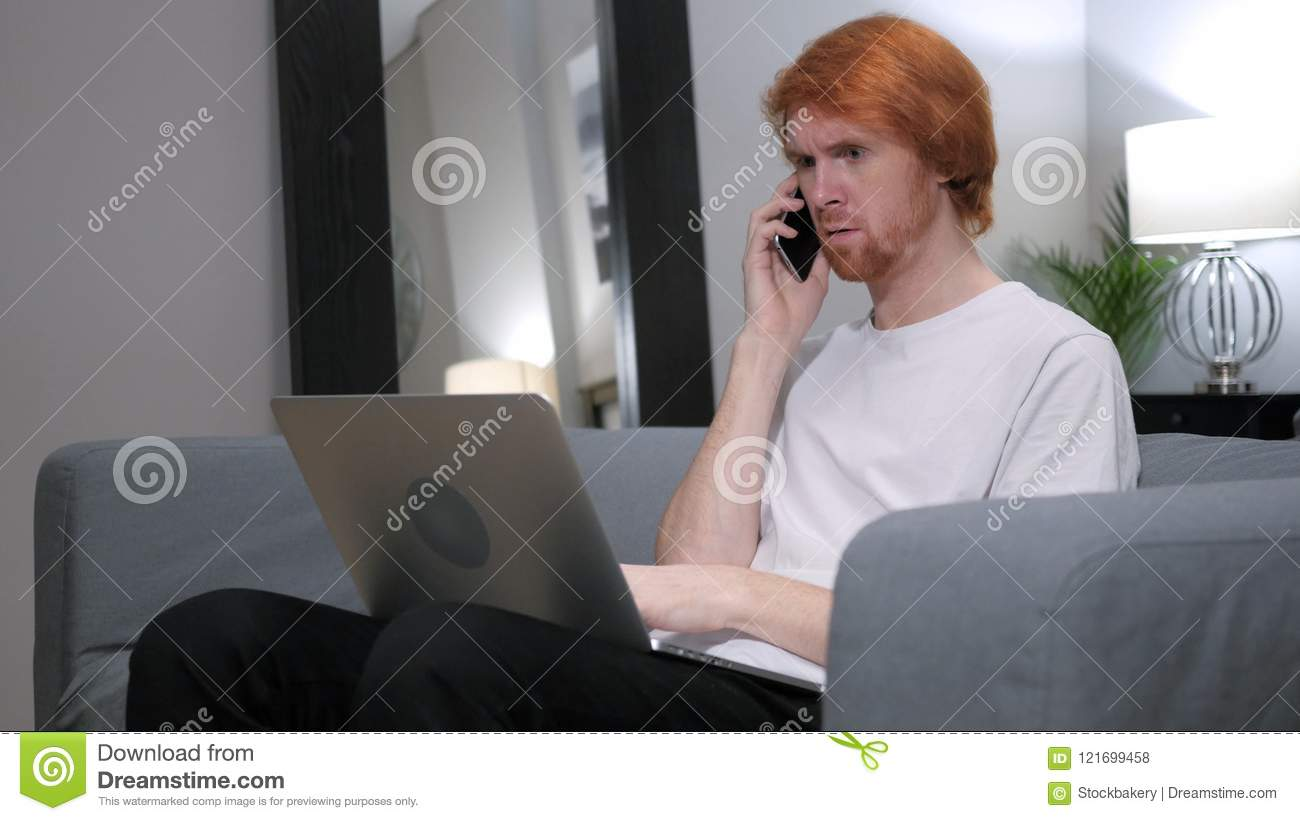phone: (769, 176, 829, 294)
talk: (738, 125, 893, 354)
